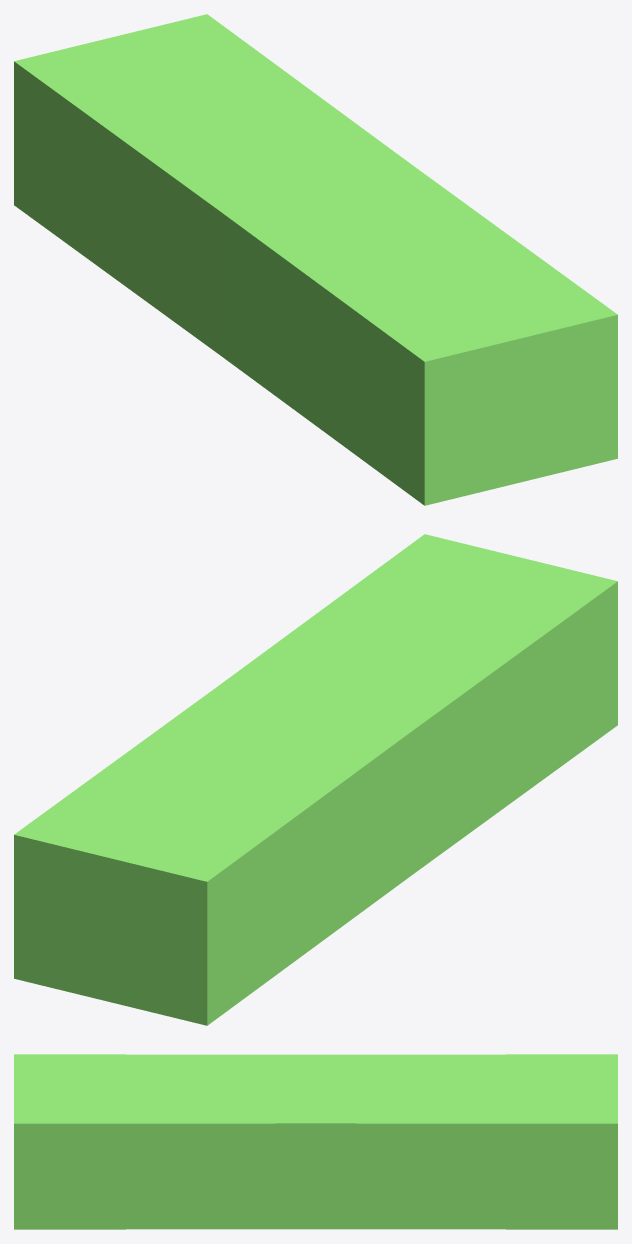
Rendered from glass room.glb.
3 renders of one model, top to bottom at view 1: azimuth 30°, elevation 25°; view 2: azimuth 150°, elevation 25°; view 3: azimuth 270°, elevation 25°, orthographic. The views are drawn at different scales.
Visible parts, largest first — view 1: Cube; view 2: Cube; view 3: Cube.
Boxes of the visible parts, bbox=[...] form: Cube: bbox=[14, 14, 617, 505]; Cube: bbox=[14, 534, 617, 1025]; Cube: bbox=[14, 1054, 617, 1229].
Size of the model in its own units: 16.98 by 12.09 by 62.5.
